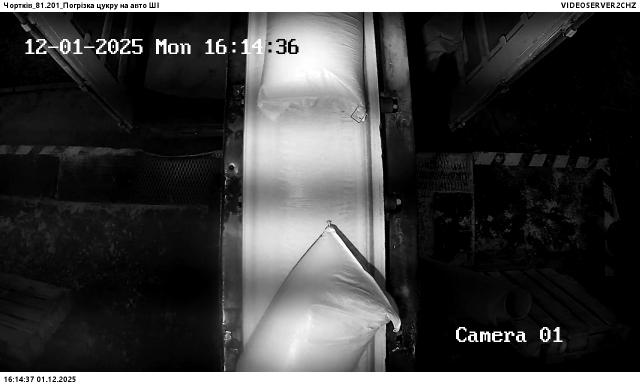bag: (237, 226, 401, 372), (255, 12, 367, 123)
